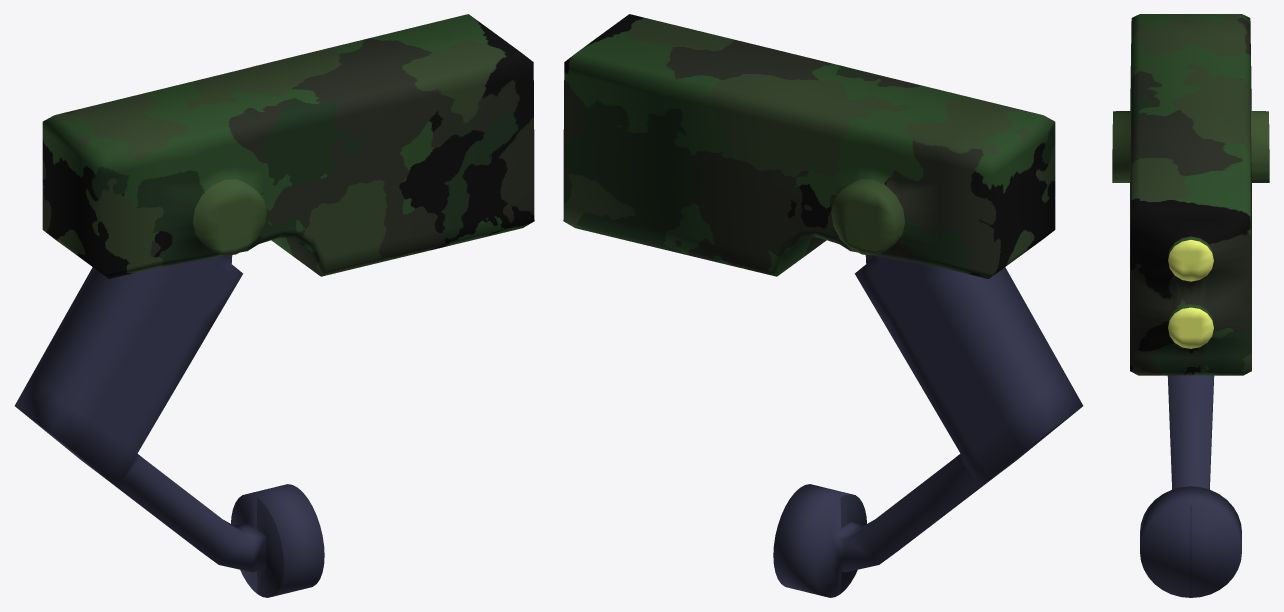
Rendered from AtG Missle.fbx.
3 renders of one model, left to right at view 1: azimuth 30°, elevation 25°; view 2: azimuth 150°, elevation 25°; view 3: azimuth 270°, elevation 25°, orthographic. The views are drawn at different scales.
Parts seen in each view (by area): view 1: AtG Missle; view 2: AtG Missle; view 3: AtG Missle.
Boxes of the visible parts, x1,y1,x2,y2 form: AtG Missle: (14, 14, 534, 597); AtG Missle: (563, 14, 1083, 597); AtG Missle: (1112, 14, 1269, 597).
Size of the model in its own units: 3.01 by 3.02 by 0.892.
Materials: 1 (1 with a texture image).
